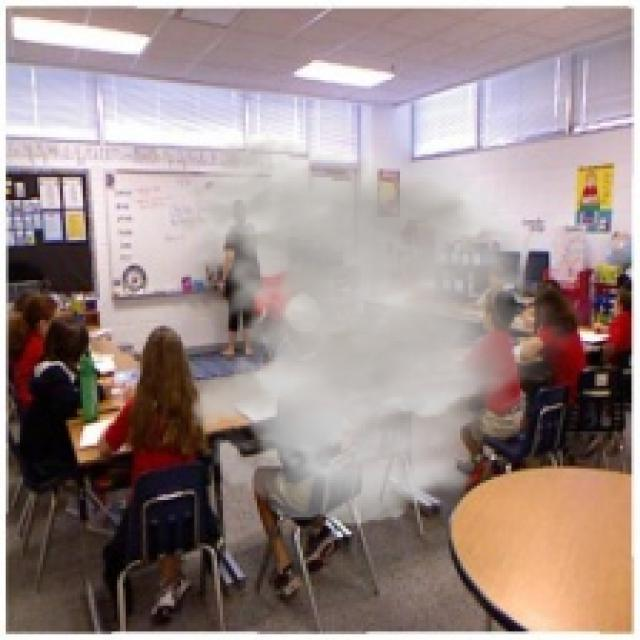Smoke: (174, 137, 586, 526)
